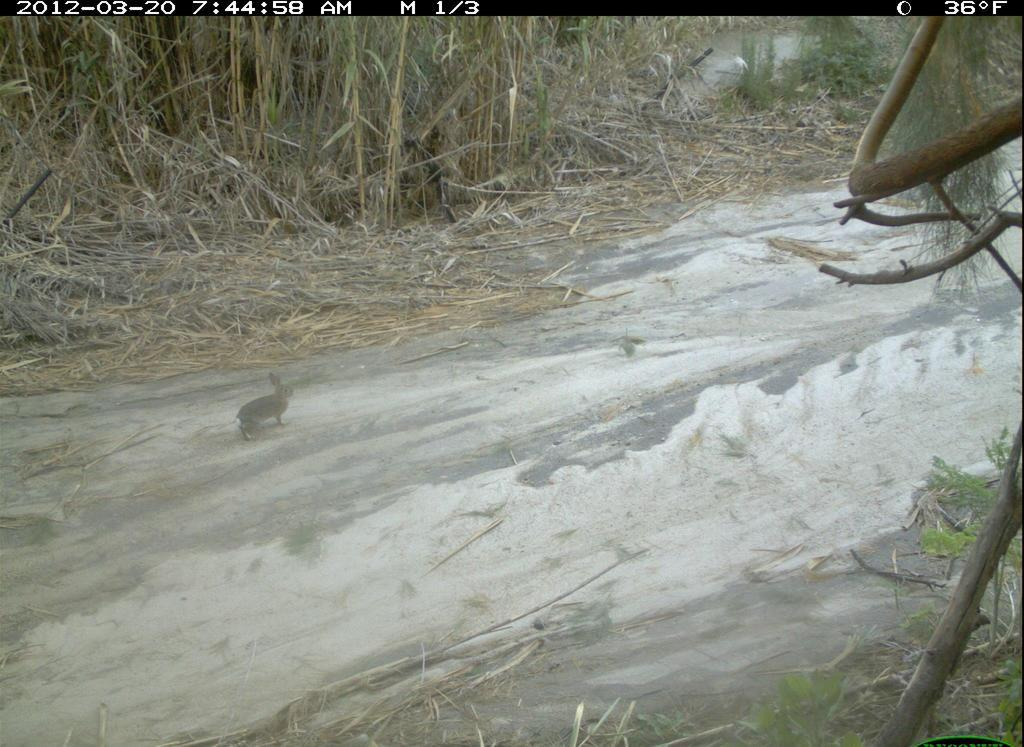rabbit: (230, 371, 299, 447)
